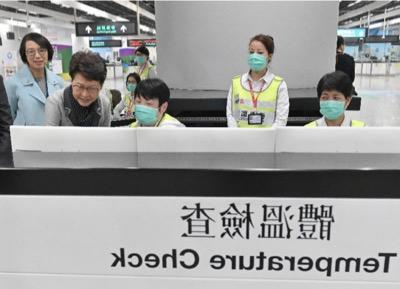with_mask: (132, 94, 158, 125), (318, 92, 346, 120), (247, 47, 268, 71), (134, 51, 146, 64), (125, 79, 137, 92)
without_mask: (70, 81, 98, 107), (23, 45, 48, 67)
